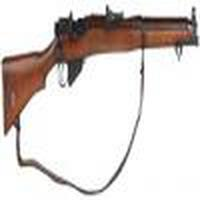gun: (4, 9, 196, 131)
